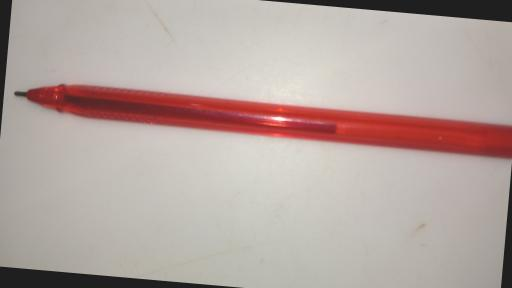pen: (9, 80, 512, 155)
